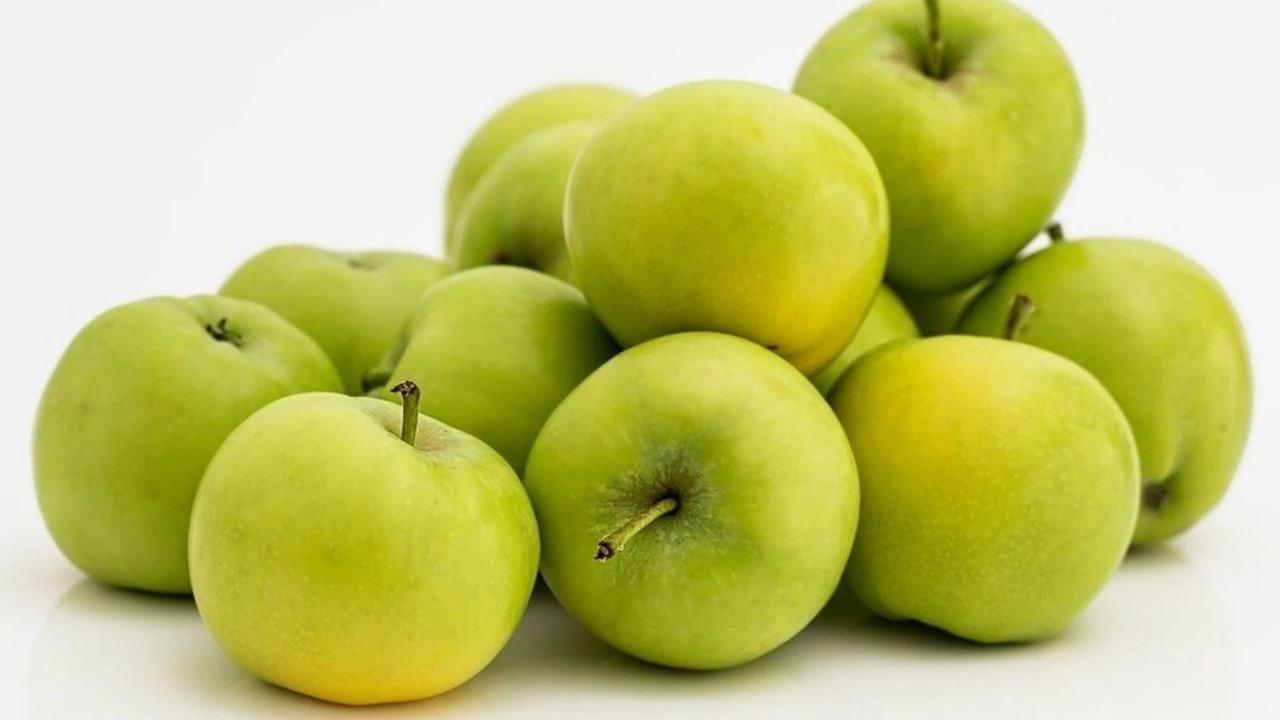Apple: (524, 321, 863, 673), (188, 381, 540, 707), (563, 75, 899, 358)
